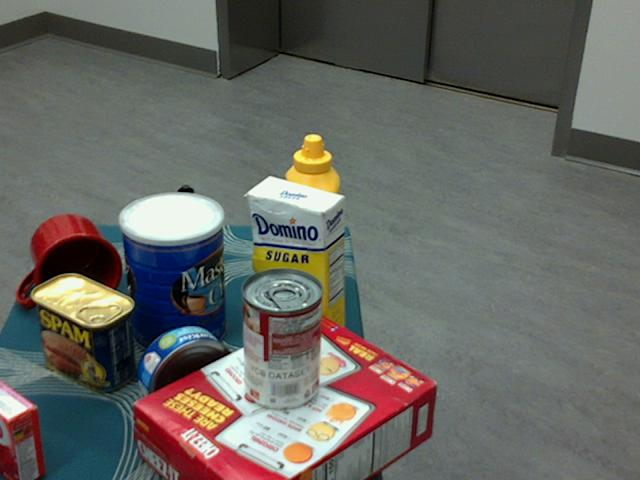cracker_box: (134, 313, 438, 479)
gelatin_box: (0, 378, 45, 479)
large_marker: (177, 184, 197, 281)
master_chef_can: (117, 192, 225, 358)
mug: (19, 213, 121, 312)
mustard_bottle: (283, 133, 337, 311)
potted_meat_can: (30, 272, 134, 391)
sugar_box: (247, 175, 344, 361)
tomato_soup_can: (240, 269, 322, 411)
tuna_fish_can: (137, 326, 235, 422)
